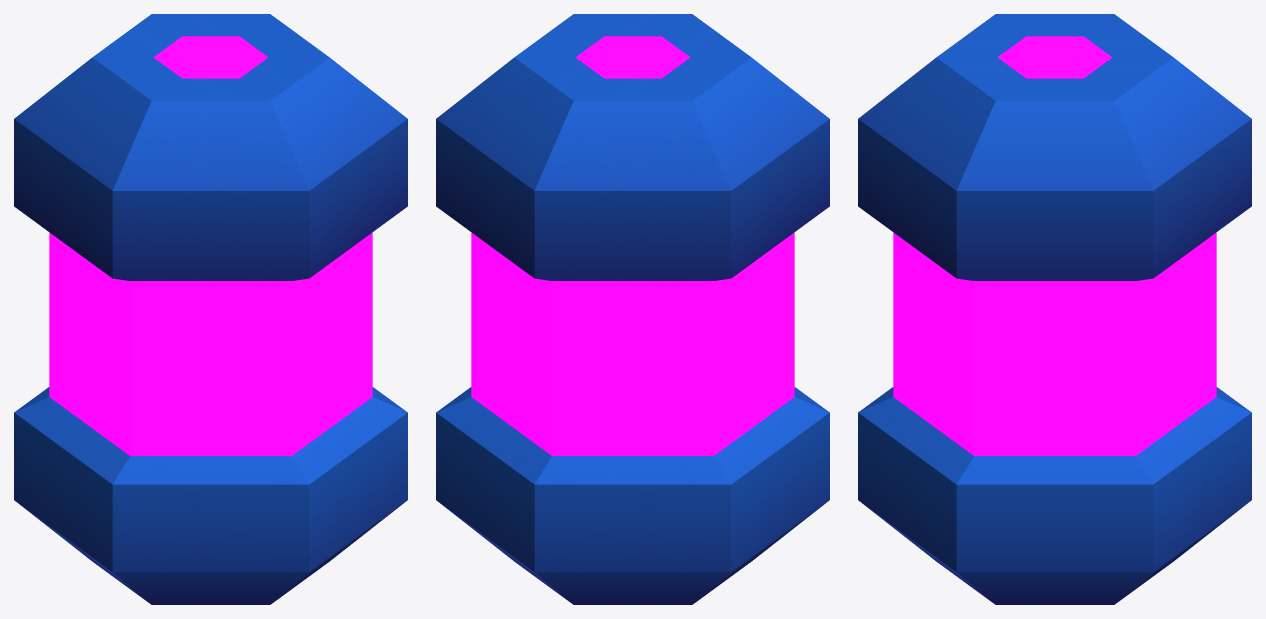
File: item_005.fbx
3 views of the same model, side by side, from view 1: azimuth 30°, elevation 25°; view 2: azimuth 150°, elevation 25°; view 3: azimuth 270°, elevation 25° (orthographic).
Visible parts, largest first — view 1: item.005; view 2: item.005; view 3: item.005.
Boxes of the visible parts, x1=… form: item.005: x1=14, y1=14, x2=407, y2=604; item.005: x1=436, y1=14, x2=829, y2=604; item.005: x1=858, y1=14, x2=1251, y2=604.
Bounding box in the file's own units: 129 × 211 × 149.
